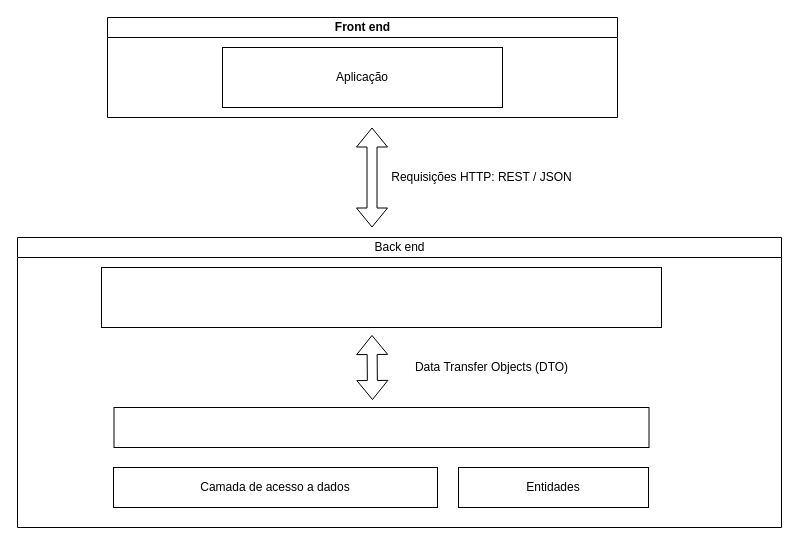
Some shapes in this 799 by 545 pixel diagram are drawn without their labels. The centre of each missing label's shape, as x and y in pixels:
"Camada de serviço" goes at point 381,427.
"Controladores REST" goes at point 381,297.
